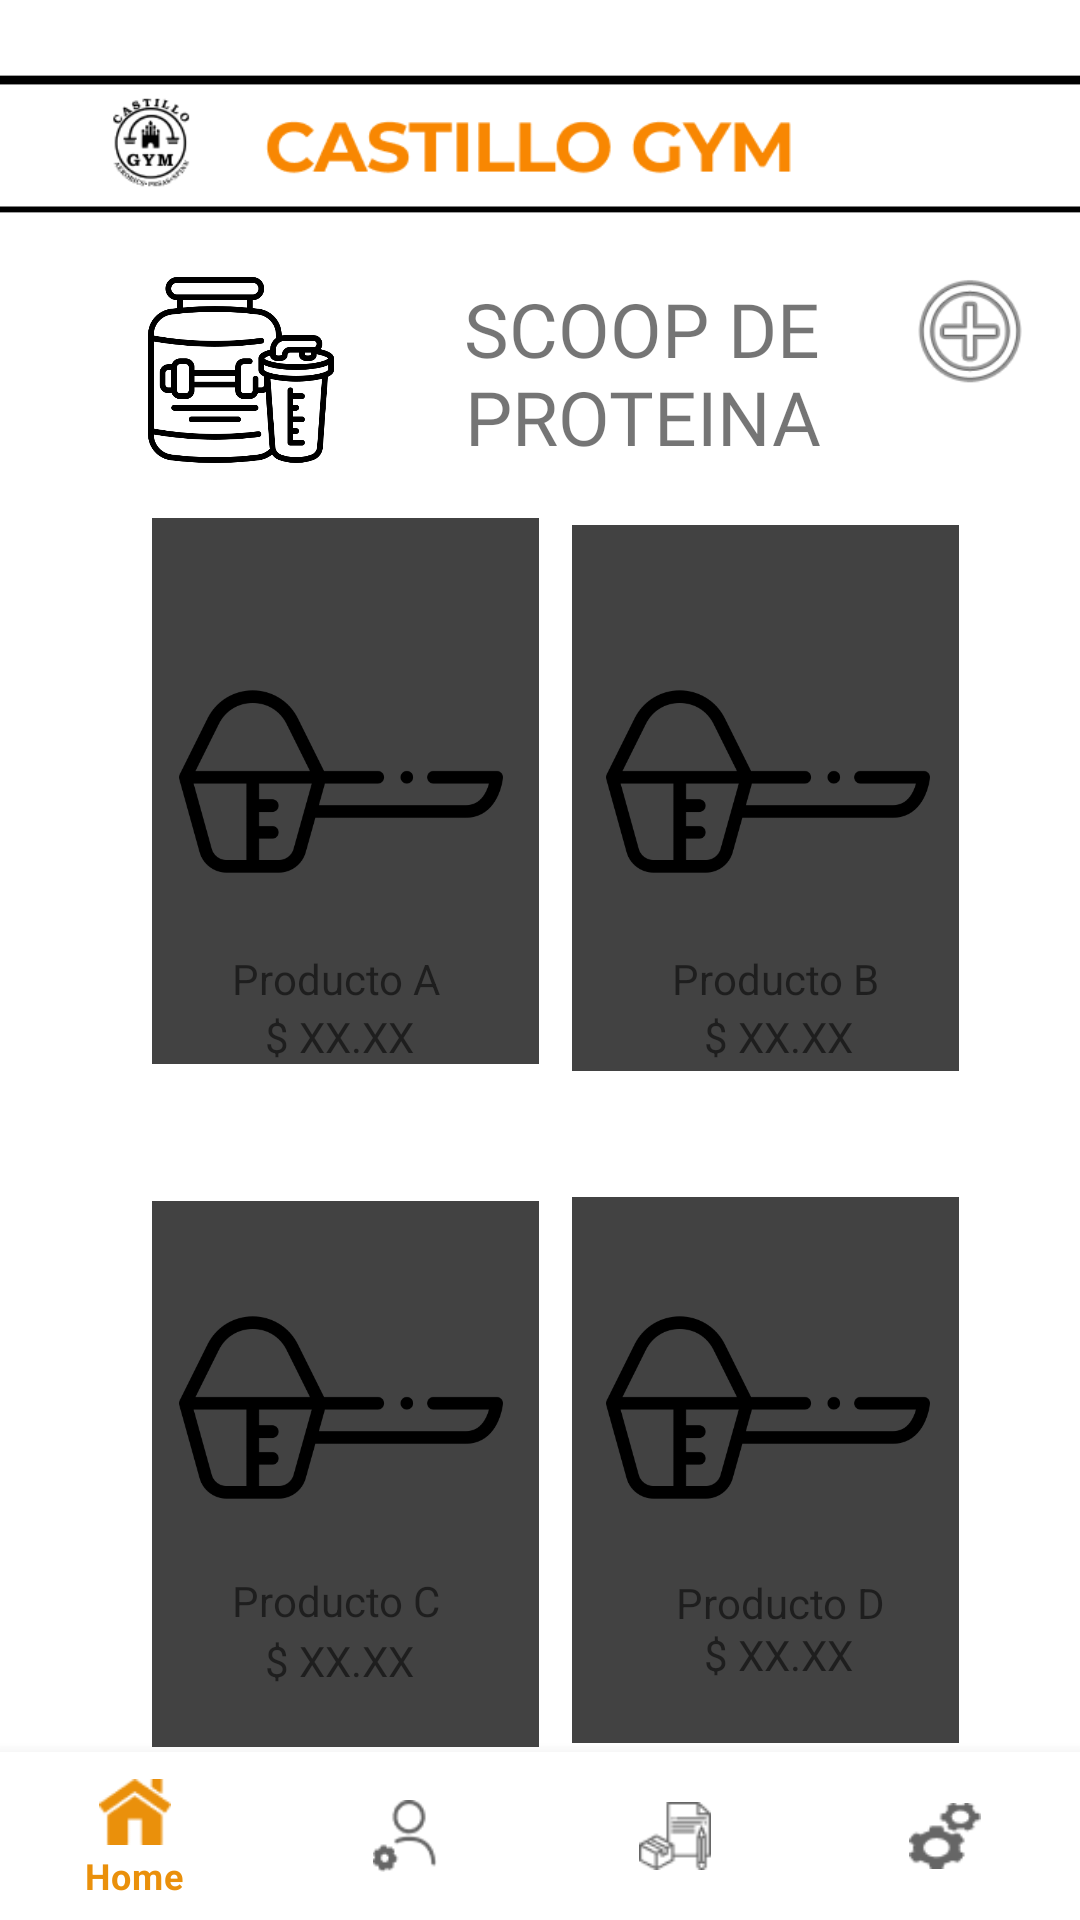

Locate icon controls on the screen. Image size 1080px x 1920px, boxes as [x1, y1, x2, y2].
add: [919, 280, 1021, 383]
